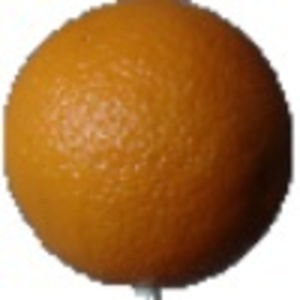laranja: (4, 2, 297, 297)
